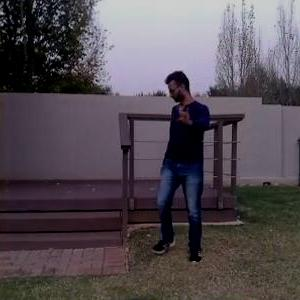takeoff-hand: (175, 98, 198, 126)
